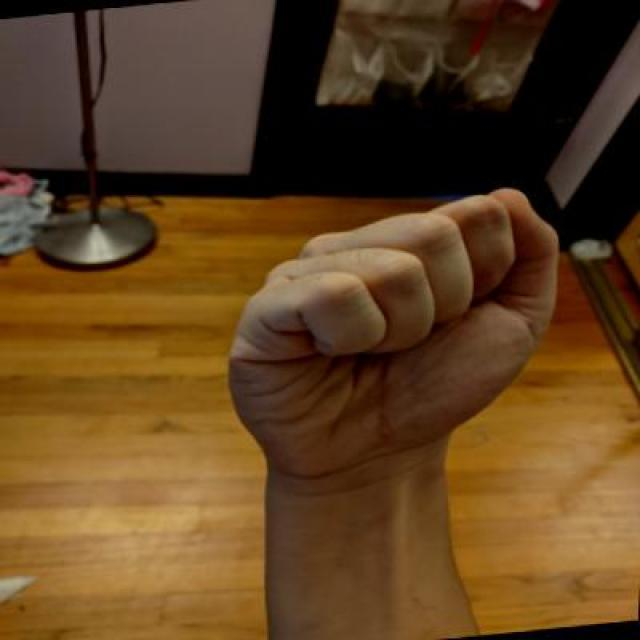A: (219, 181, 571, 490)
